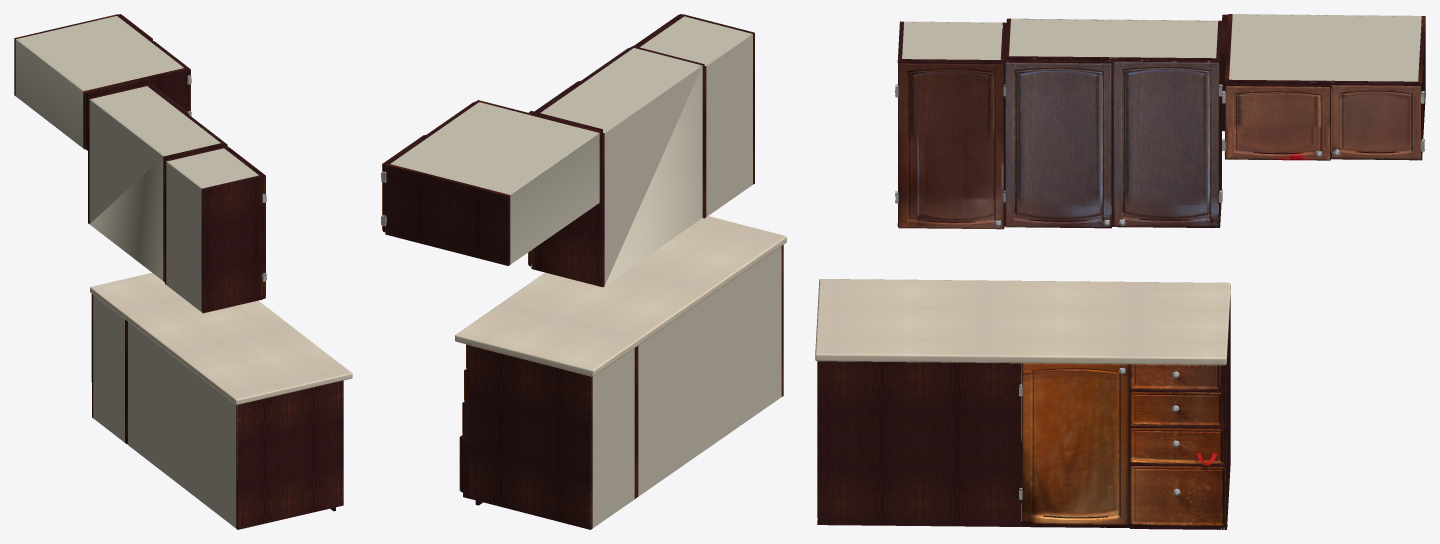
3 renders of one model, left to right at view 1: azimuth 30°, elevation 25°; view 2: azimuth 150°, elevation 25°; view 3: azimuth 270°, elevation 25°, orthographic. The views are drawn at different scales.
Parts seen in each view (by area): view 1: prep_base_carcass, prep_countertop, upper_dishes_carcass, upper_pantry_carcass, upper_fridge_carcass, drawer_stack_carcass, upper_pantry_door; view 2: drawer_stack_carcass, upper_fridge_carcass, upper_dishes_carcass, prep_base_carcass, prep_countertop, upper_pantry_carcass; view 3: prep_countertop, prep_base_carcass, upper_dishes_left, upper_dishes_right, upper_pantry_door, prep_base_door, upper_fridge_carcass, upper_dishes_carcass, upper_fridge_left, upper_fridge_right, fridge_side_drawer_4, upper_pantry_carcass (+4 smaller).
Part boxes in pixels (x1=…): prep_base_carcass: x1=126, y1=320, x2=343, y2=529; prep_countertop: x1=90, y1=273, x2=352, y2=404; upper_dishes_carcass: x1=88, y1=84, x2=224, y2=282; upper_pantry_carcass: x1=165, y1=146, x2=262, y2=313; upper_fridge_carcass: x1=14, y1=14, x2=188, y2=150; drawer_stack_carcass: x1=91, y1=294, x2=126, y2=443; upper_pantry_door: x1=226, y1=146, x2=266, y2=298; drawer_stack_carcass: x1=463, y1=344, x2=636, y2=529; upper_fridge_carcass: x1=385, y1=100, x2=602, y2=265; upper_dishes_carcass: x1=531, y1=46, x2=704, y2=287; prep_base_carcass: x1=636, y1=245, x2=783, y2=497; prep_countertop: x1=455, y1=216, x2=786, y2=376; upper_pantry_carcass: x1=637, y1=14, x2=754, y2=218; prep_countertop: x1=815, y1=279, x2=1230, y2=365; prep_base_carcass: x1=817, y1=361, x2=1129, y2=527; upper_dishes_left: x1=1003, y1=60, x2=1112, y2=228; upper_dishes_right: x1=1113, y1=59, x2=1222, y2=227; upper_pantry_door: x1=895, y1=61, x2=1004, y2=229; prep_base_door: x1=1019, y1=363, x2=1128, y2=524; upper_fridge_carcass: x1=1220, y1=14, x2=1425, y2=160; upper_dishes_carcass: x1=1004, y1=18, x2=1222, y2=227; upper_fridge_left: x1=1222, y1=83, x2=1330, y2=160; upper_fridge_right: x1=1331, y1=83, x2=1424, y2=159; fridge_side_drawer_4: x1=1130, y1=463, x2=1226, y2=526; upper_pantry_carcass: x1=897, y1=21, x2=1006, y2=227.
Size of the model in its own units: 0.862 by 2.19 by 2.71.
17 materials, 12 textured.
